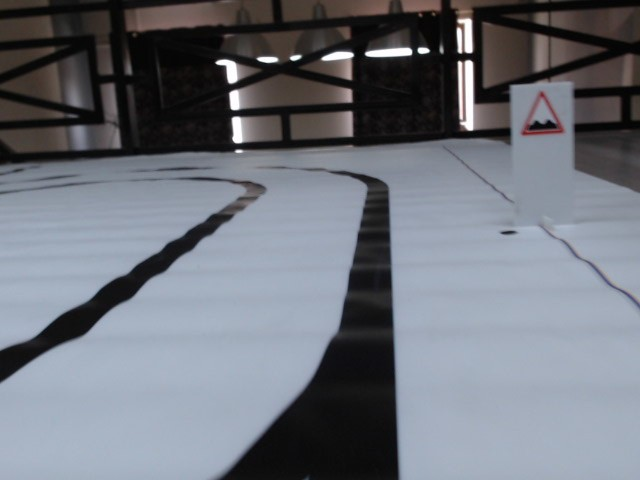Nerov: (518, 89, 567, 138)
